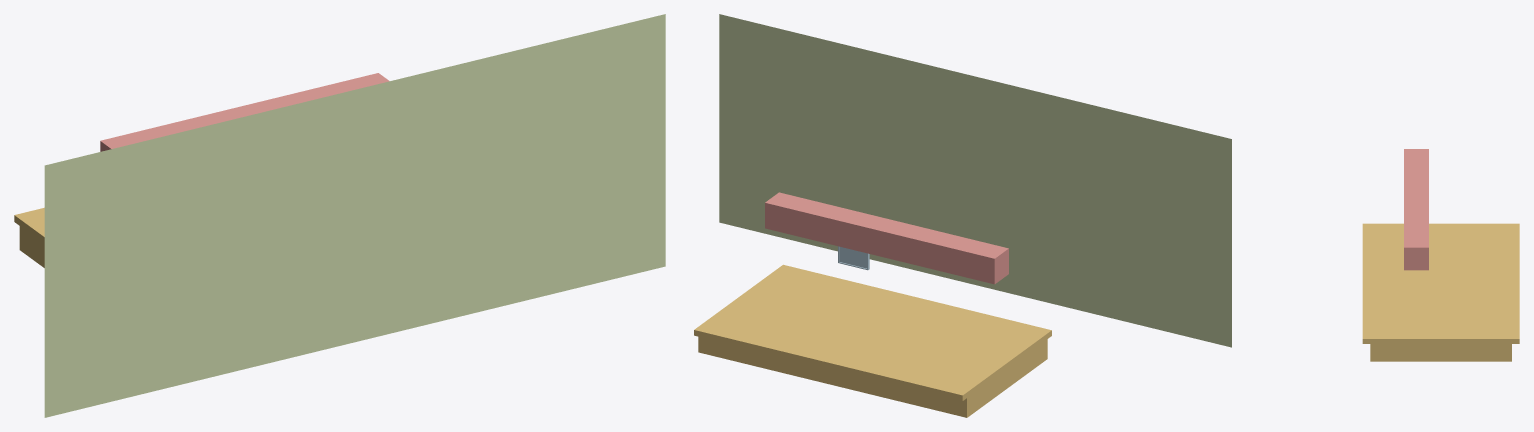
Rendered from station-01.glb.
3 renders of one model, left to right at view 1: azimuth 30°, elevation 25°; view 2: azimuth 150°, elevation 25°; view 3: azimuth 270°, elevation 25°, orthographic. The views are drawn at different scales.
Visible parts, largest first — view 1: Wall-Plane, Roof.002, Platform; view 2: Wall-Plane, Platform, Roof.002, Screen; view 3: Platform, Roof.002.
Boxes of the visible parts, <box> form: Wall-Plane: <box>44,14,665,417</box>; Roof.002: <box>100,73,389,151</box>; Platform: <box>14,207,44,267</box>; Wall-Plane: <box>719,14,1231,347</box>; Platform: <box>694,264,1051,417</box>; Roof.002: <box>765,192,1008,284</box>; Screen: <box>838,246,869,270</box>; Platform: <box>1362,223,1519,361</box>; Roof.002: <box>1404,149,1428,270</box>.
Bounding box in the file's own units: 41.79 × 16.24 × 20.77.
